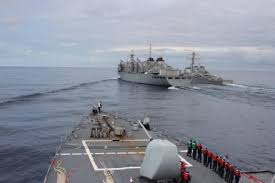tau_muctieu: (114, 49, 197, 91), (182, 61, 231, 84)
